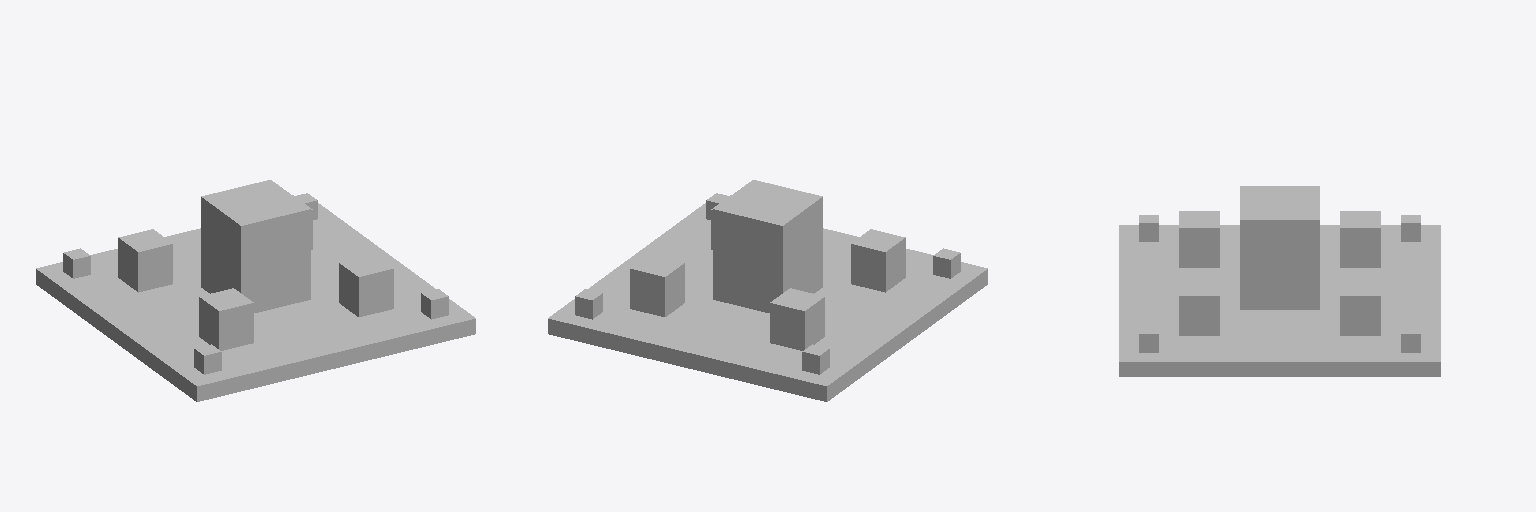
Rendered from arena.obj.
The picture shows the model from 3 angles: view 1: azimuth 30°, elevation 25°; view 2: azimuth 150°, elevation 25°; view 3: azimuth 270°, elevation 25°; orthographic projection.
Parts seen in each view (by area): view 1: Plane; view 2: Plane; view 3: Plane.
Boxes of the visible parts, box(x1,y1,x2,y2) form: Plane: box(36, 180, 475, 401); Plane: box(548, 180, 987, 401); Plane: box(1119, 186, 1440, 376).
Size of the model in its own units: 15.89 by 5.79 by 15.89.